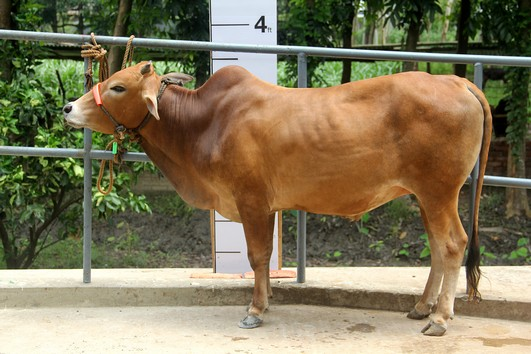cow: (53, 53, 497, 337)
